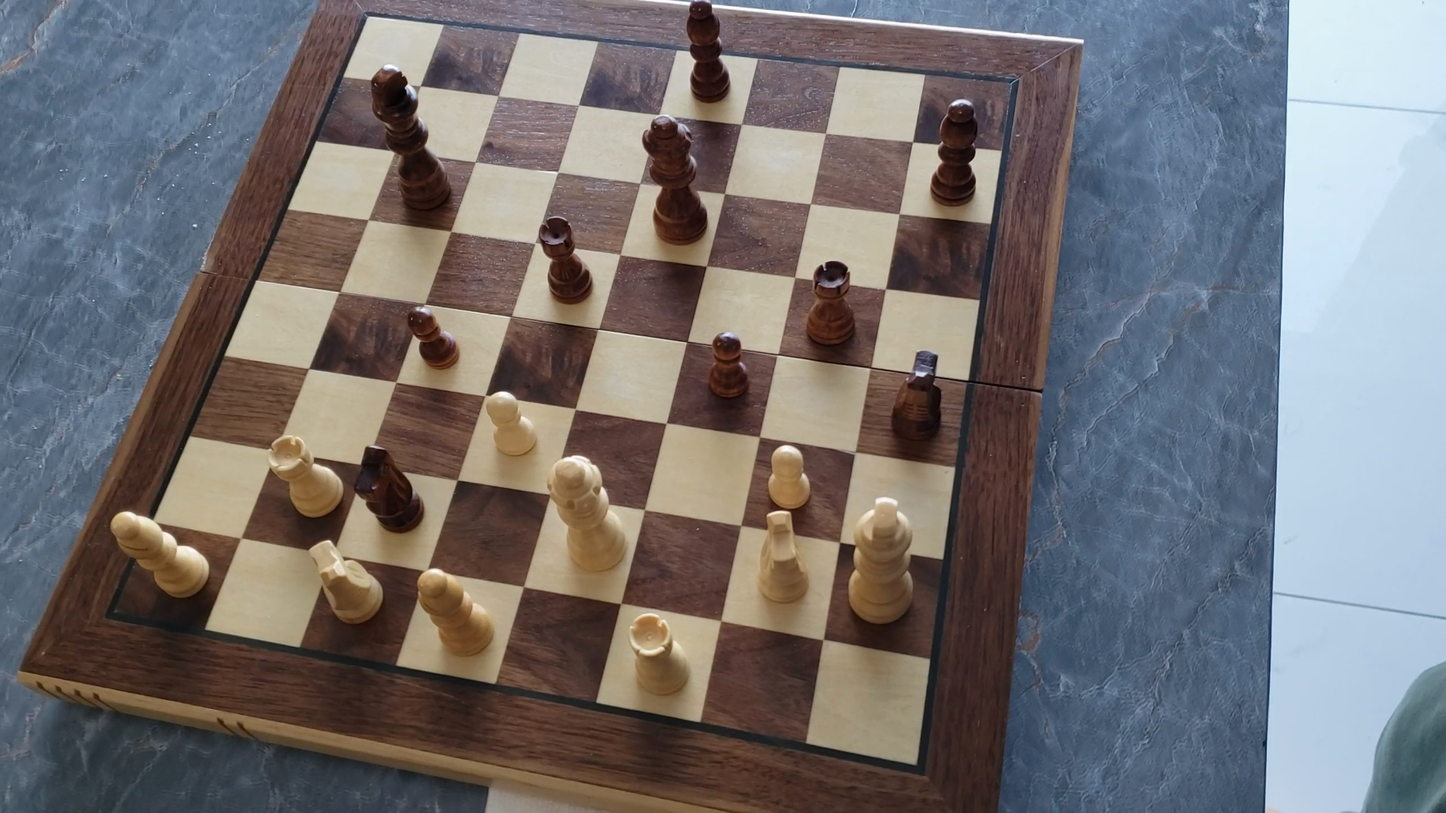black-bishop: (931, 95, 983, 207), (682, 0, 731, 103)
black-king: (368, 62, 452, 213)
black-knight: (889, 340, 952, 445), (355, 443, 426, 533)
black-pawn: (404, 301, 463, 371), (704, 327, 751, 403)
black-queen: (629, 109, 720, 249)
black-rook: (535, 213, 595, 305), (804, 259, 857, 348)
white-bishop: (106, 508, 213, 602), (411, 564, 500, 660)
white-king: (846, 489, 919, 628)
white-knight: (305, 534, 394, 633), (753, 508, 812, 607)
white-pawn: (478, 386, 543, 459), (763, 440, 815, 513)
white-queen: (545, 453, 633, 576)
white-rook: (265, 431, 345, 521), (624, 609, 694, 701)
